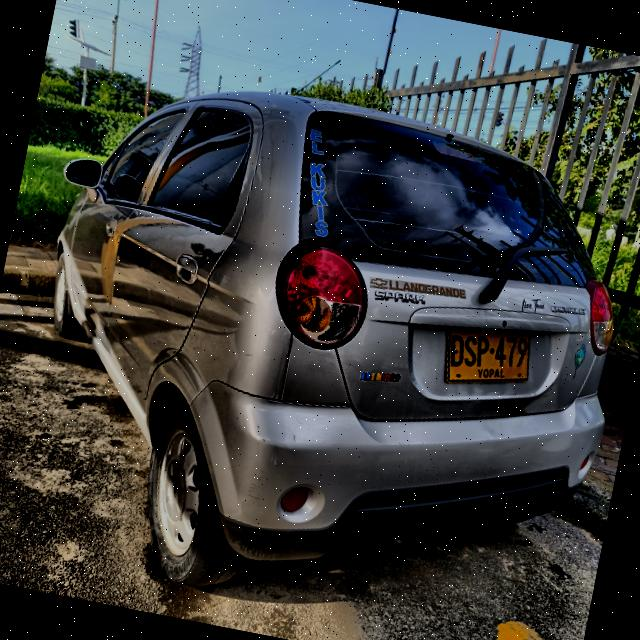plate: (448, 327, 529, 381)
